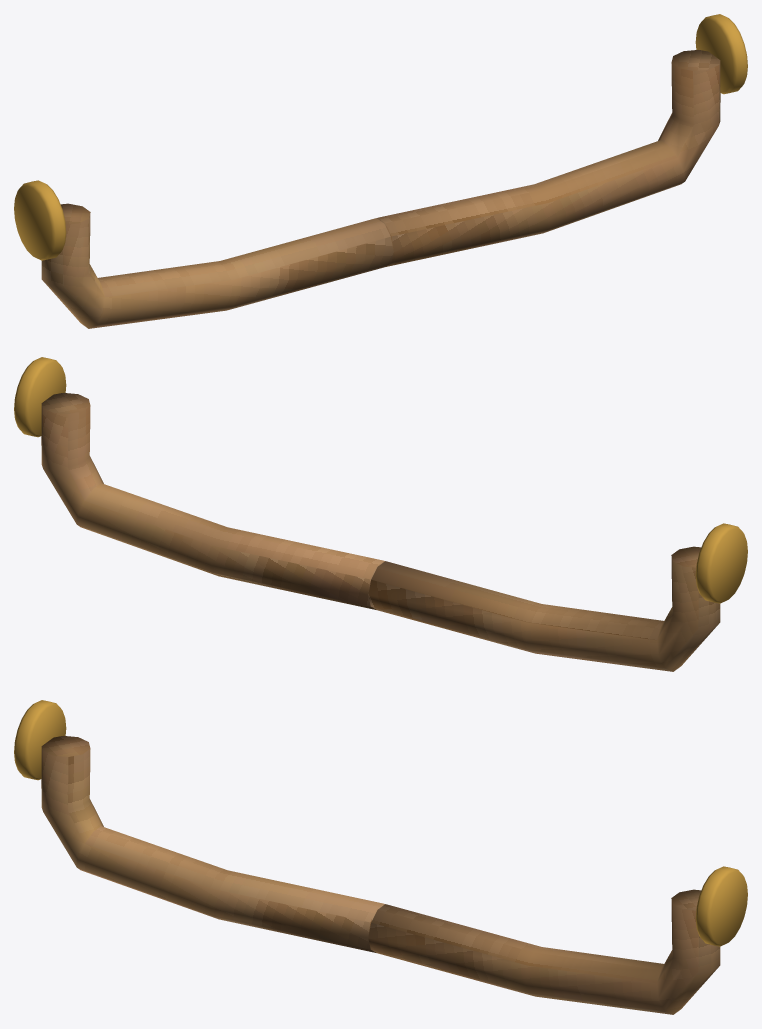
File: binocular_yoke.glb
3 renders of one model, top to bottom at view 1: azimuth 30°, elevation 25°; view 2: azimuth 150°, elevation 25°; view 3: azimuth 330°, elevation 25°, orthographic.
Visible parts, largest first — view 1: prop_binocular_yoke_wood, prop_binocular_yoke_brass; view 2: prop_binocular_yoke_wood, prop_binocular_yoke_brass; view 3: prop_binocular_yoke_wood, prop_binocular_yoke_brass.
Boxes of the visible parts, x1=… form: prop_binocular_yoke_wood: x1=41, y1=50, x2=720, y2=328; prop_binocular_yoke_brass: x1=14, y1=14, x2=747, y2=260; prop_binocular_yoke_wood: x1=41, y1=393, x2=720, y2=671; prop_binocular_yoke_brass: x1=14, y1=357, x2=747, y2=603; prop_binocular_yoke_wood: x1=41, y1=736, x2=720, y2=1014; prop_binocular_yoke_brass: x1=14, y1=700, x2=747, y2=946.
Bounding box in the file's own units: 0.762 × 0.1758 × 0.076.
2 materials, 1 textured.
